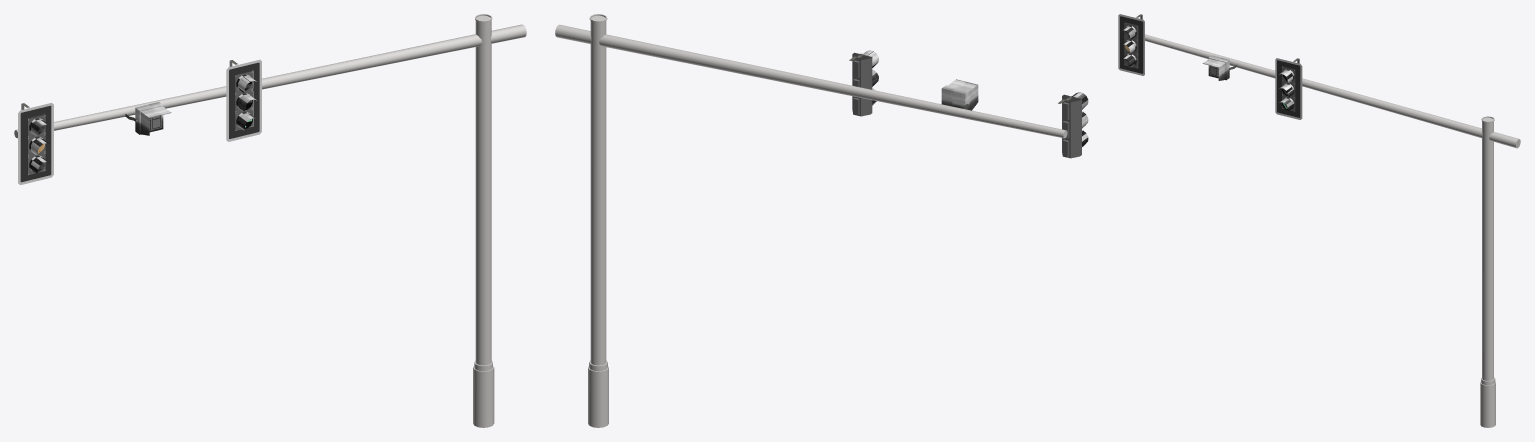
The model's file is signal.glb.
3 renders of one model, left to right at view 1: azimuth 30°, elevation 25°; view 2: azimuth 150°, elevation 25°; view 3: azimuth 330°, elevation 25°, orthographic. The views are drawn at different scales.
Parts seen in each view (by area): view 1: Mesh15 Group1 Model, Mesh16 Group1 Model, Mesh13 Group1 Model, Mesh14 Group1 Model, Mesh19 Group1 Model, Mesh20 Group1 Model, Mesh17 Group1 Model; view 2: Mesh15 Group1 Model, Mesh16 Group1 Model, Mesh19 Group1 Model, Mesh20 Group1 Model, Mesh17 Group1 Model; view 3: Mesh15 Group1 Model, Mesh16 Group1 Model, Mesh13 Group1 Model, Mesh14 Group1 Model, Mesh19 Group1 Model.
Boxes of the visible parts, box(x1,y1,x2,y2) form: Mesh15 Group1 Model: box(473, 14, 494, 427); Mesh16 Group1 Model: box(14, 24, 526, 138); Mesh13 Group1 Model: box(226, 59, 261, 141); Mesh14 Group1 Model: box(18, 103, 53, 184); Mesh19 Group1 Model: box(27, 114, 45, 175); Mesh20 Group1 Model: box(235, 71, 252, 130); Mesh17 Group1 Model: box(135, 102, 163, 134); Mesh15 Group1 Model: box(588, 14, 608, 427); Mesh16 Group1 Model: box(555, 24, 1067, 138); Mesh19 Group1 Model: box(1062, 94, 1081, 158); Mesh20 Group1 Model: box(852, 52, 872, 116); Mesh17 Group1 Model: box(941, 85, 969, 109); Mesh15 Group1 Model: box(1480, 116, 1495, 427); Mesh16 Group1 Model: box(1145, 34, 1520, 148); Mesh13 Group1 Model: box(1275, 58, 1302, 119); Mesh14 Group1 Model: box(1118, 14, 1144, 75); Mesh19 Group1 Model: box(1124, 22, 1138, 68).
Size of the model in its own units: 9.53 by 7.71 by 0.8981.
13 materials, 6 textured.
